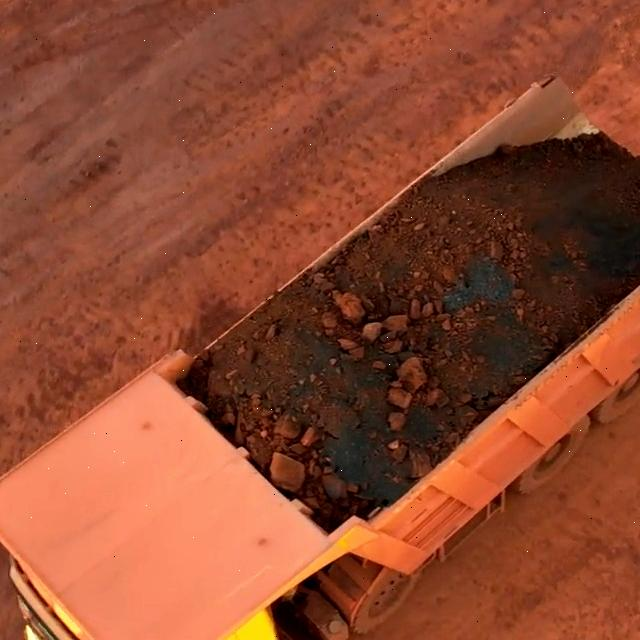Dumper truck: (20, 471, 289, 640)
